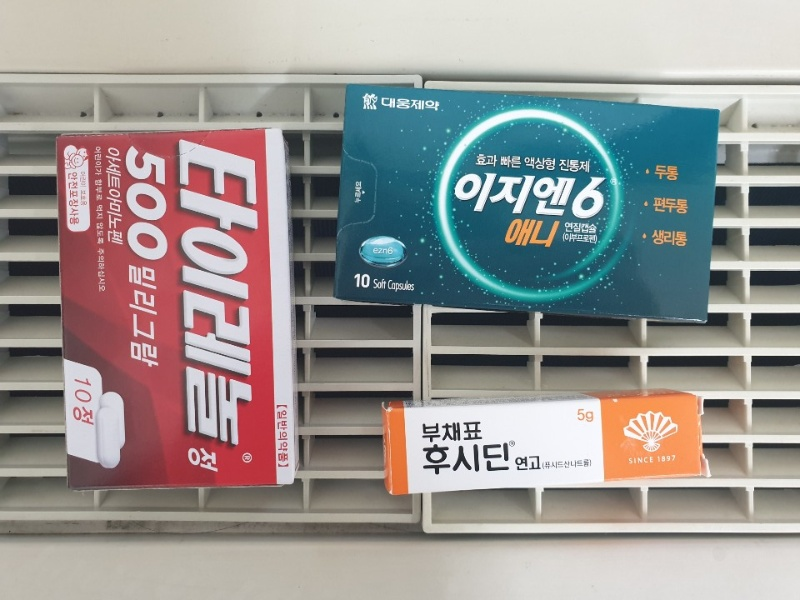ezn: (335, 82, 711, 323)
fucidin: (381, 398, 709, 493)
tylenol: (57, 131, 295, 486)
